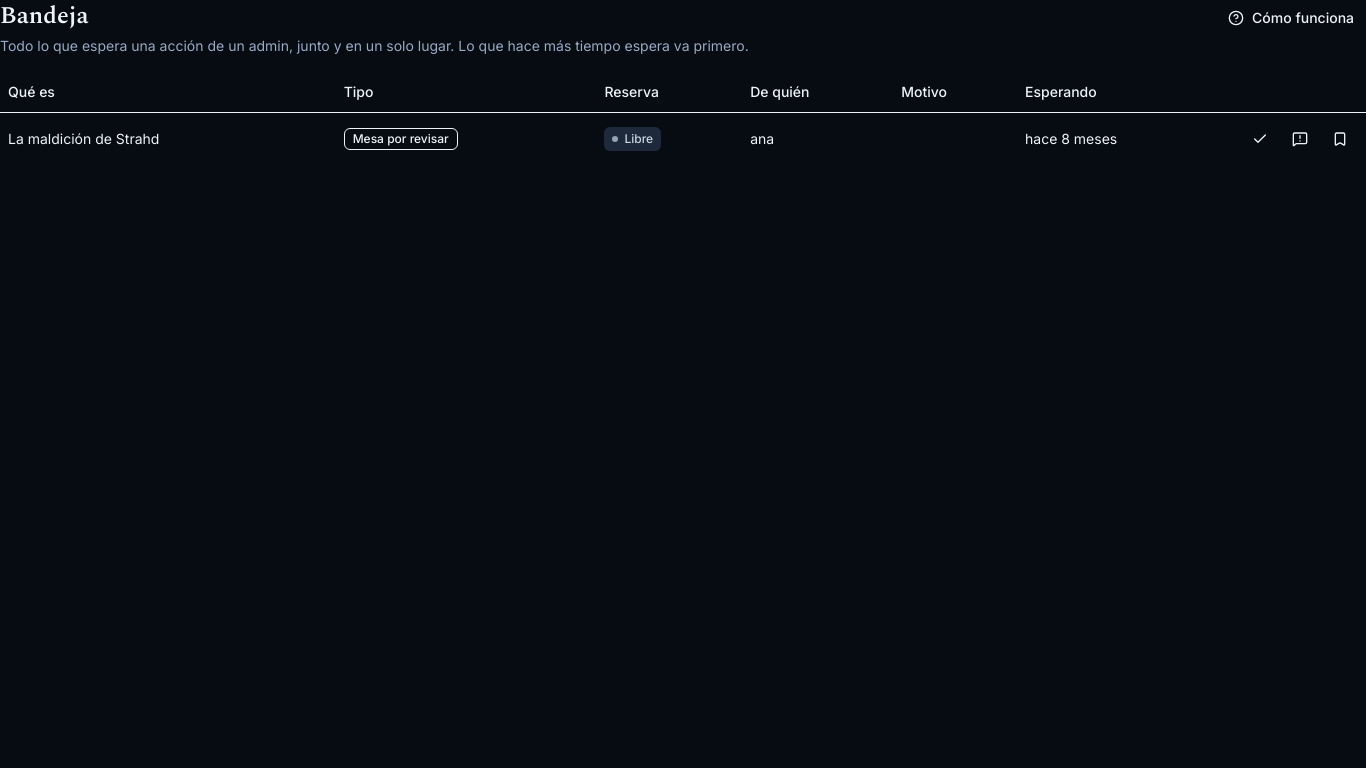
AdminQueuePage › answers a refused request for changes inline and raises no toast at all
Click the button named "Pedir cambios". click: (1300, 138)
box: [1282,120,1318,156]
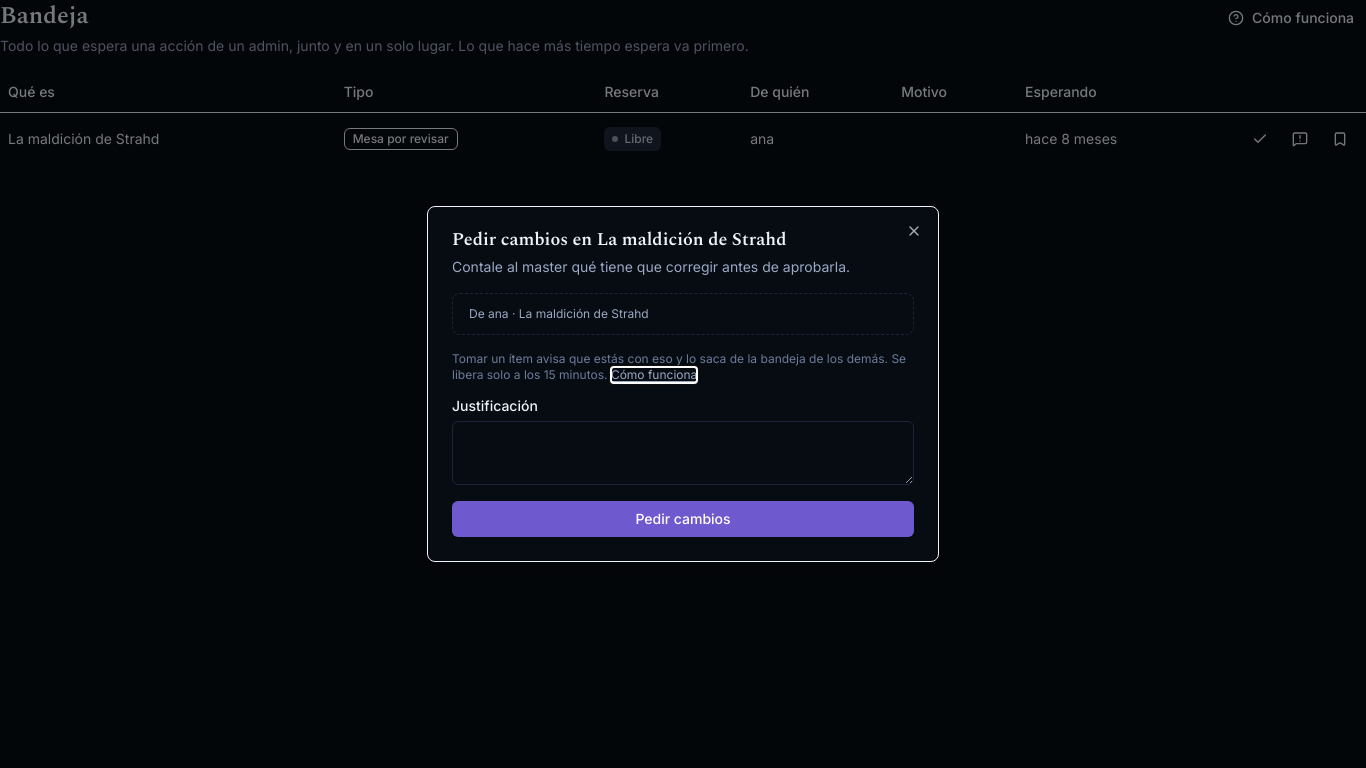
Type "Falta el horario" into the text box. click: (683, 453)
box: [452,421,914,485]
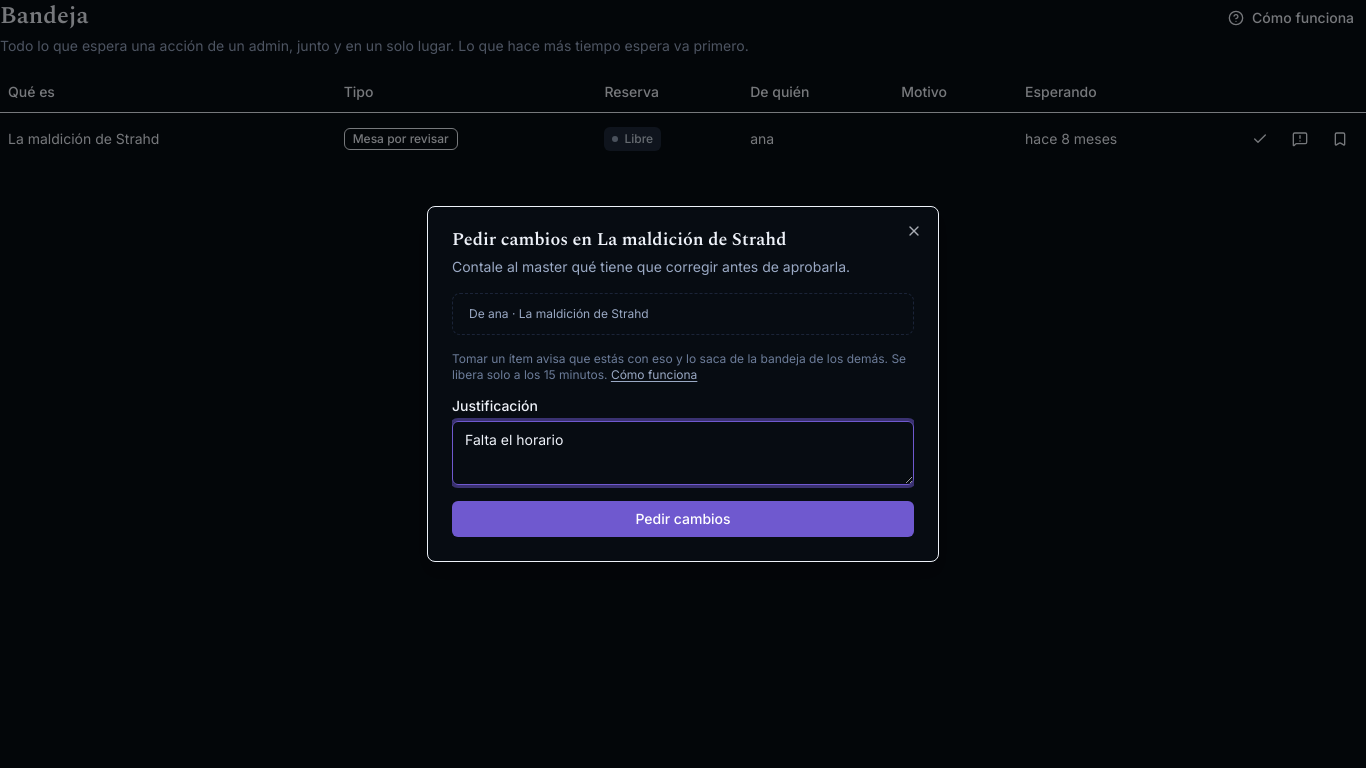
Click the button "Pedir cambios". click: (683, 519)
box: [452,501,914,537]
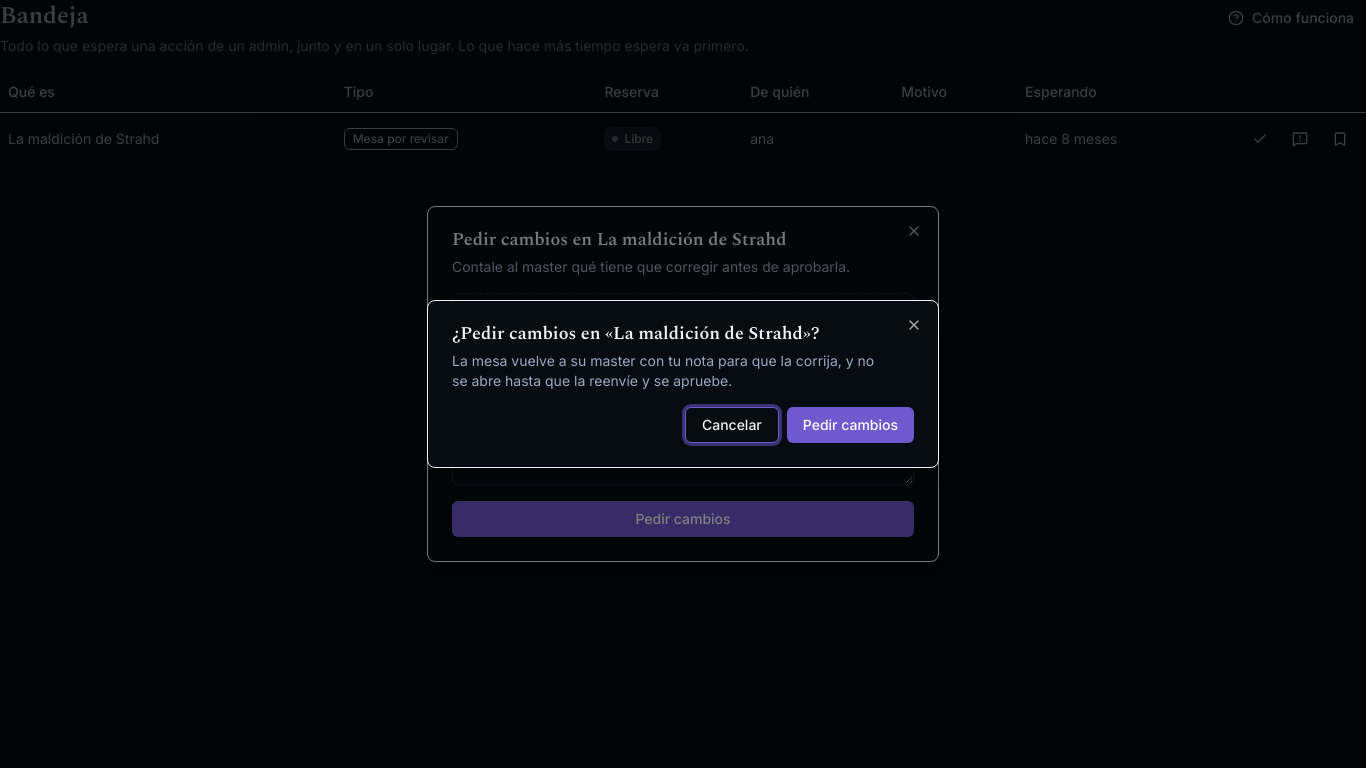
Click the button "Pedir cambios". click: (850, 425)
box: [787,407,914,443]
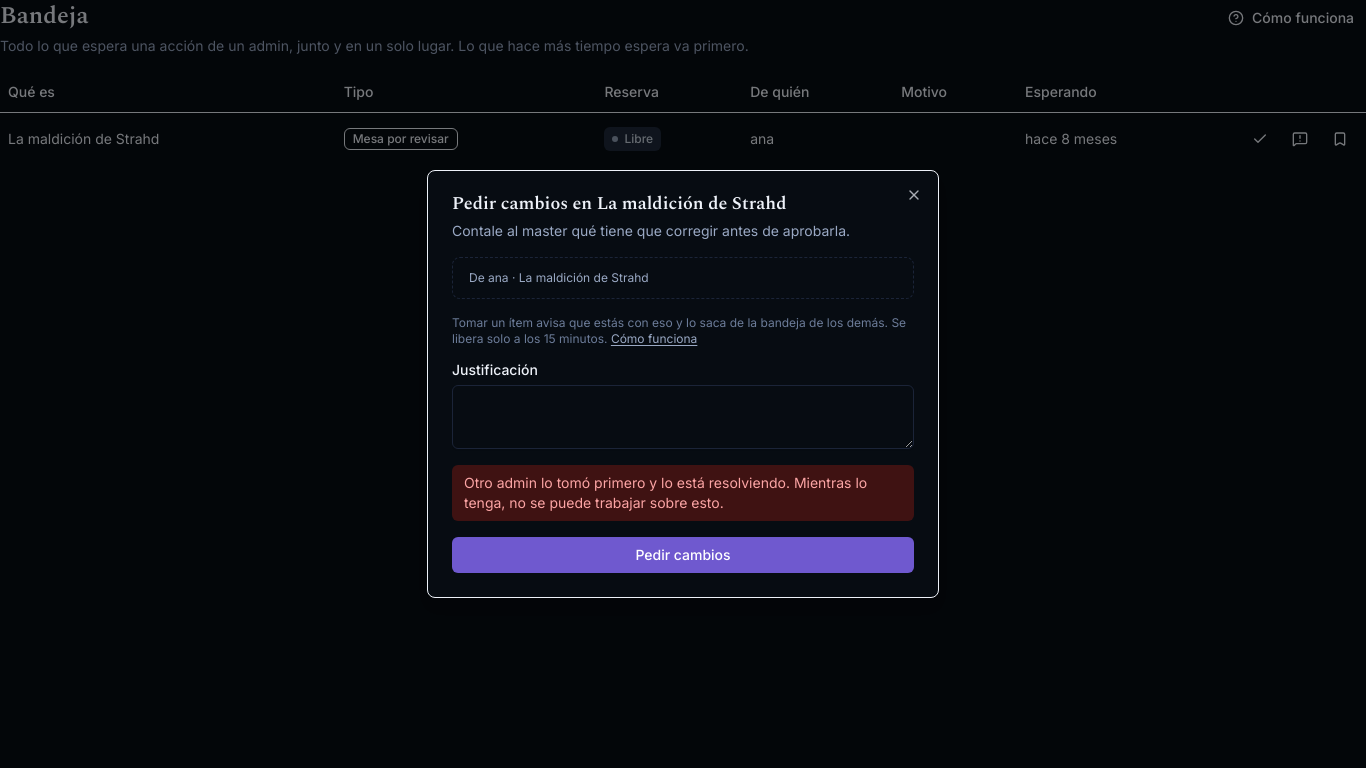
Expected: the message shows "Otro admin lo tomó primero y lo está resolviendo. Mientras lo tenga, no se puede trabajar sobre esto.", [464,474,867,511]
